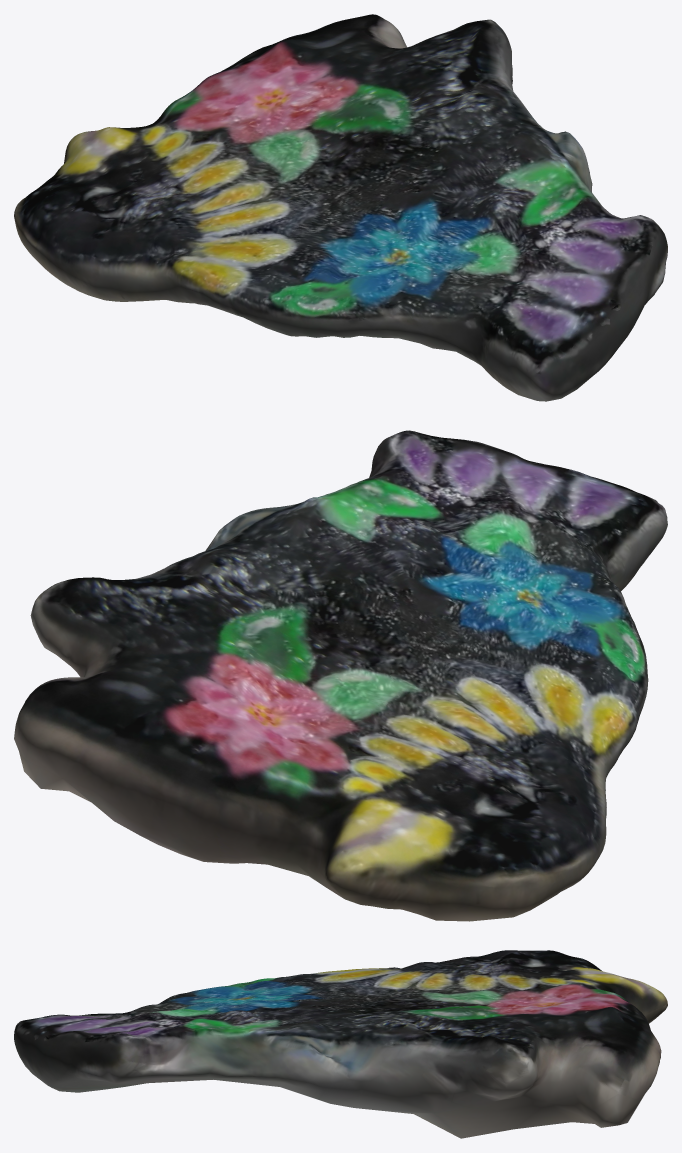
3 renders of one model, top to bottom at view 1: azimuth 30°, elevation 25°; view 2: azimuth 150°, elevation 25°; view 3: azimuth 270°, elevation 25°, orthographic. The views are drawn at different scales.
Bounding box in the file's own units: 0.3856 × 0.1336 × 0.5377.
1 material, 1 textured.
